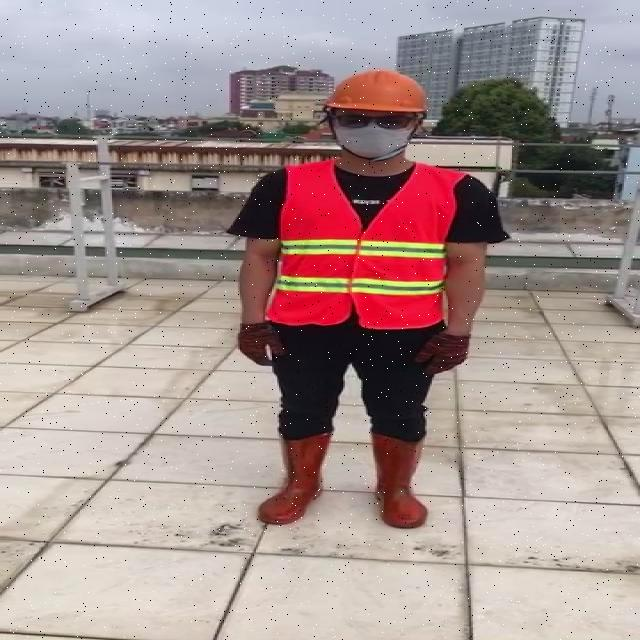Hard_hat: (315, 65, 431, 125)
Person: (218, 68, 519, 550)
Vest: (271, 158, 452, 329)
